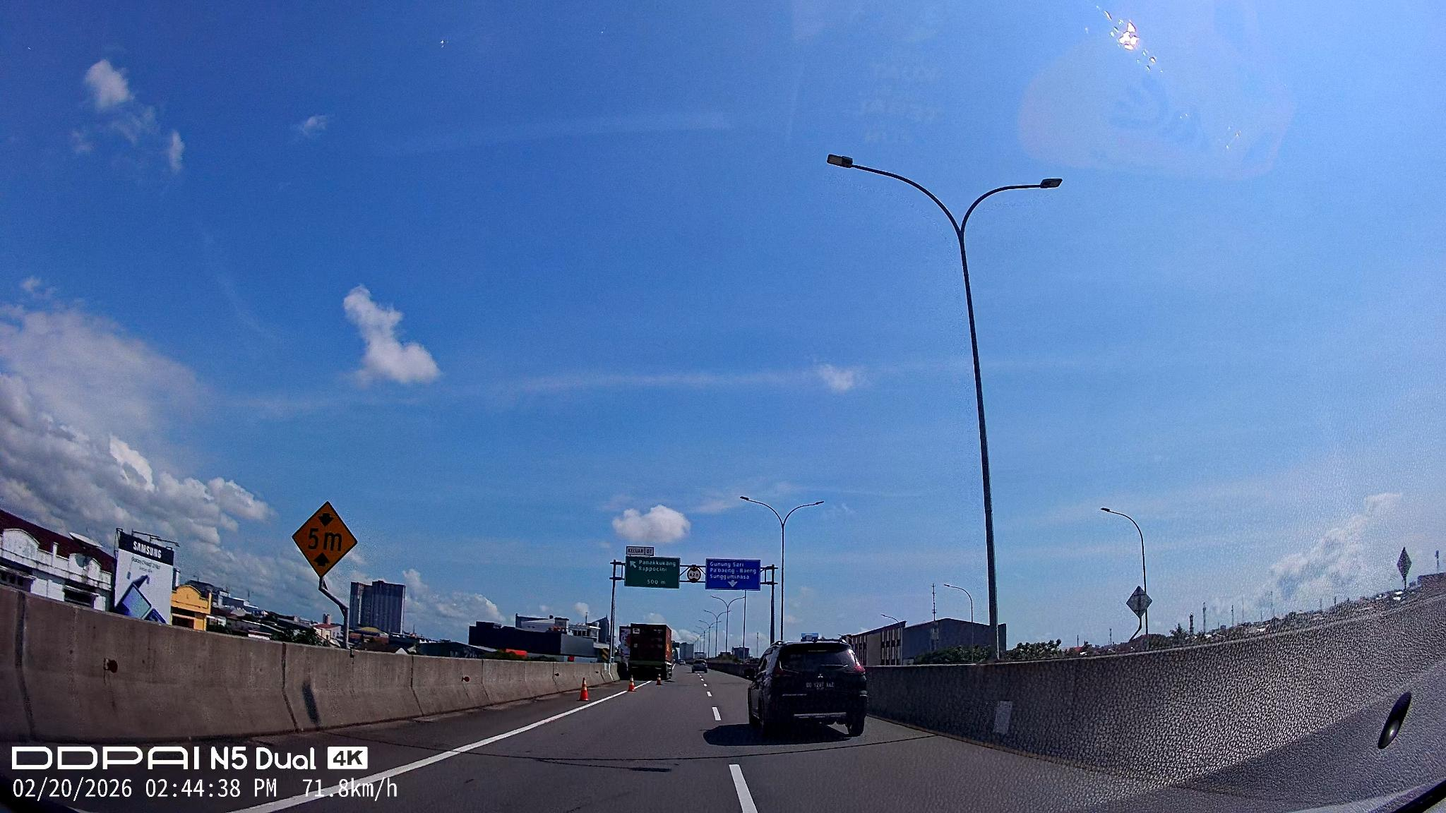rambu_teks: (625, 555, 680, 589), (706, 558, 761, 591)
